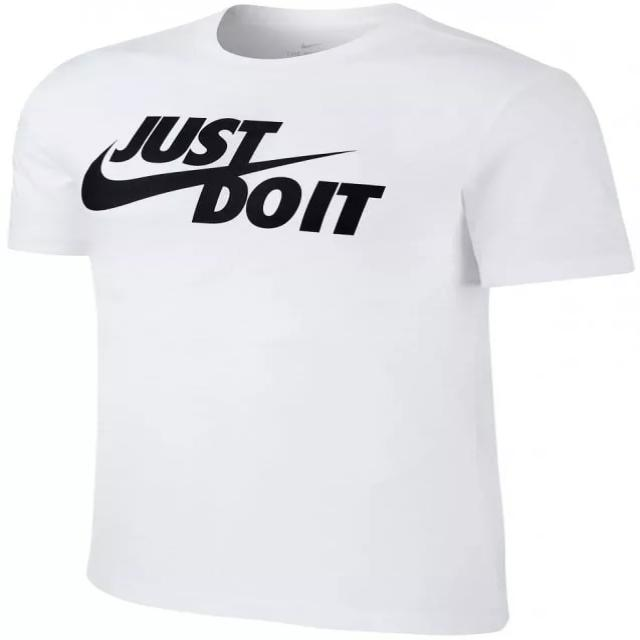nike: (74, 136, 346, 228)
